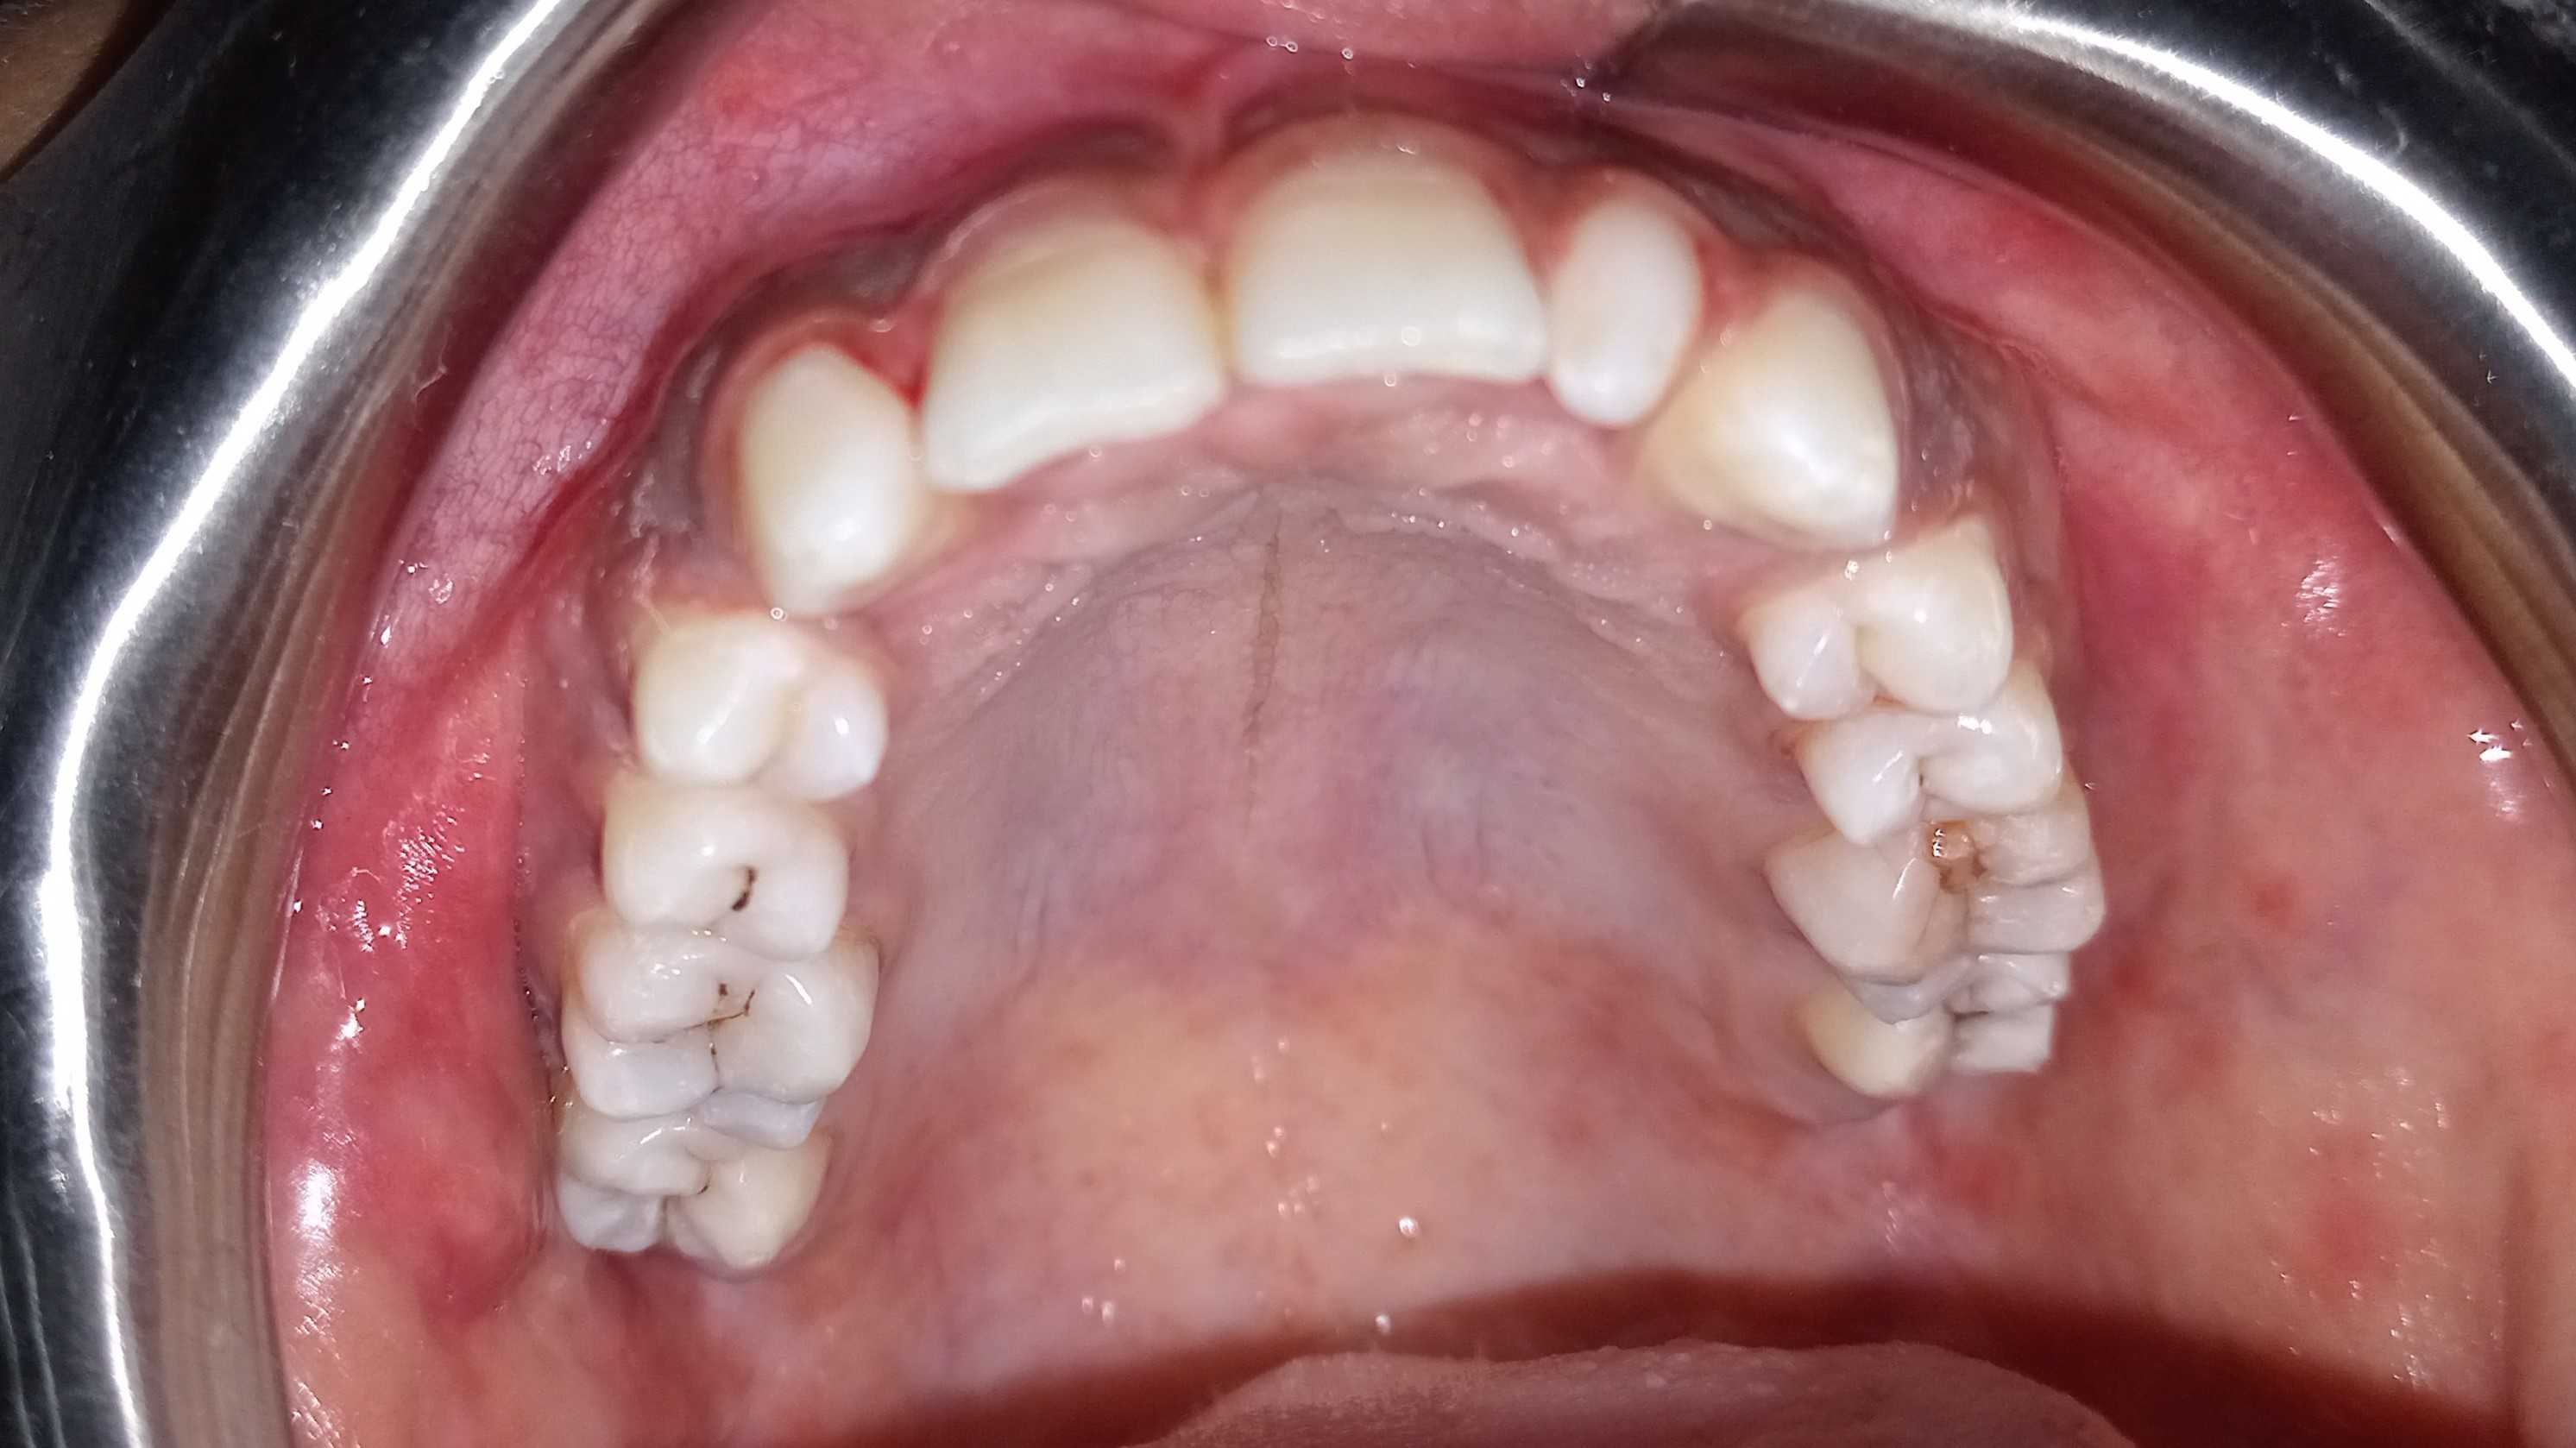D: (1762, 784, 2109, 1016), (554, 921, 881, 1151), (589, 773, 852, 964), (1773, 980, 2052, 1102)
